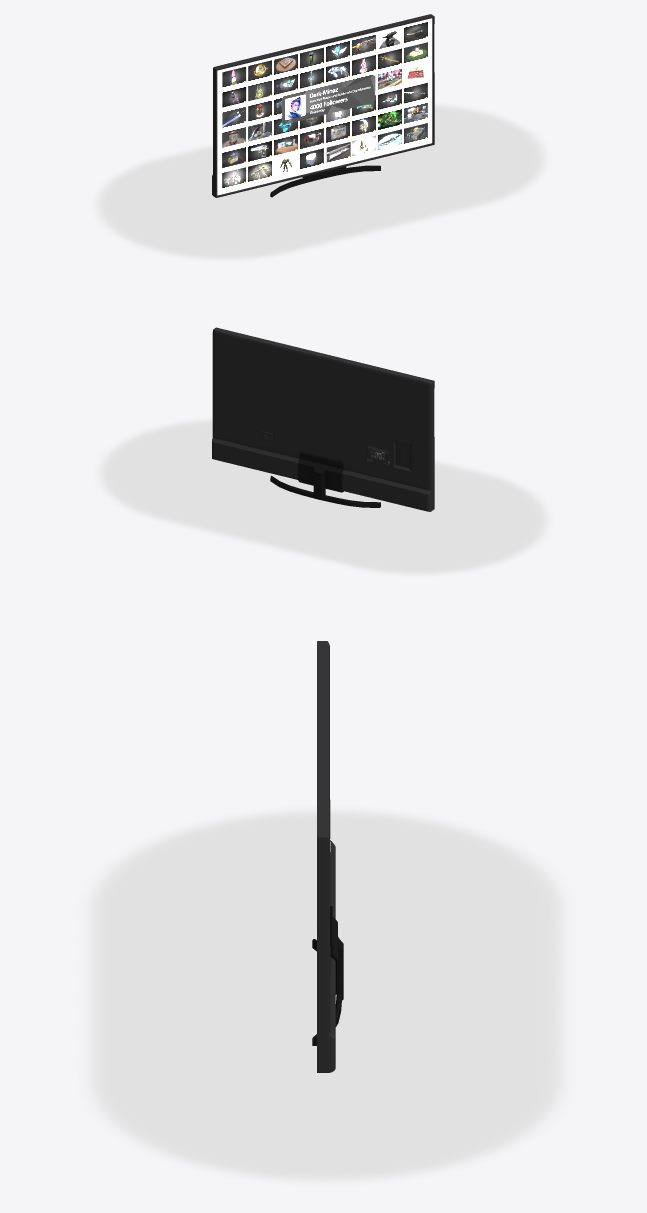
File: 4k_tv_4000_follower_giveaway.glb
3 views of the same model, one above another, from view 1: azimuth 30°, elevation 25°; view 2: azimuth 150°, elevation 25°; view 3: azimuth 270°, elevation 25° (orthographic). The views are drawn at different scales.
Parts seen in each view (by area): view 1: Object_2, Object_3; view 2: Object_2, Object_3; view 3: Object_2, Object_3.
Boxes of the visible parts, left/top/right/bottom form: Object_2: left=93, top=103, right=549, bottom=260; Object_3: left=212, top=14, right=434, bottom=197; Object_2: left=96, top=418, right=551, bottom=575; Object_3: left=212, top=327, right=434, bottom=511; Object_2: left=82, top=807, right=570, bottom=1184; Object_3: left=312, top=641, right=343, bottom=1072.
Size of the model in its own units: 32.97 by 9.83 by 21.37.
Materials: 2 (2 with a texture image).
